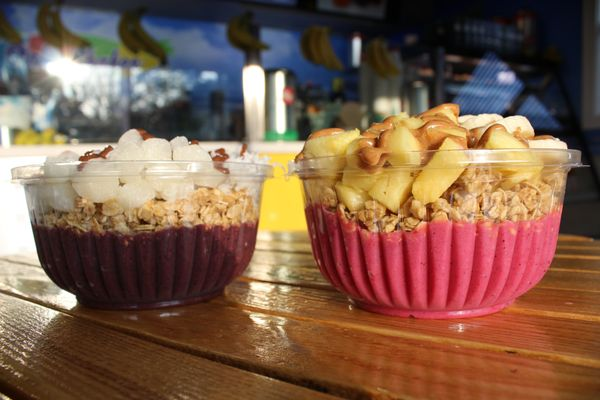pasta: (301, 25, 344, 70), (364, 36, 402, 77)
